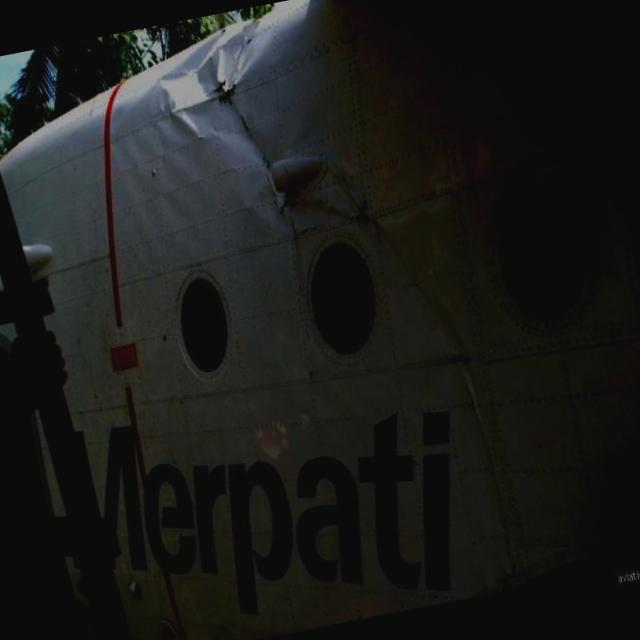crack: (208, 70, 254, 138)
dent: (144, 10, 293, 154)
